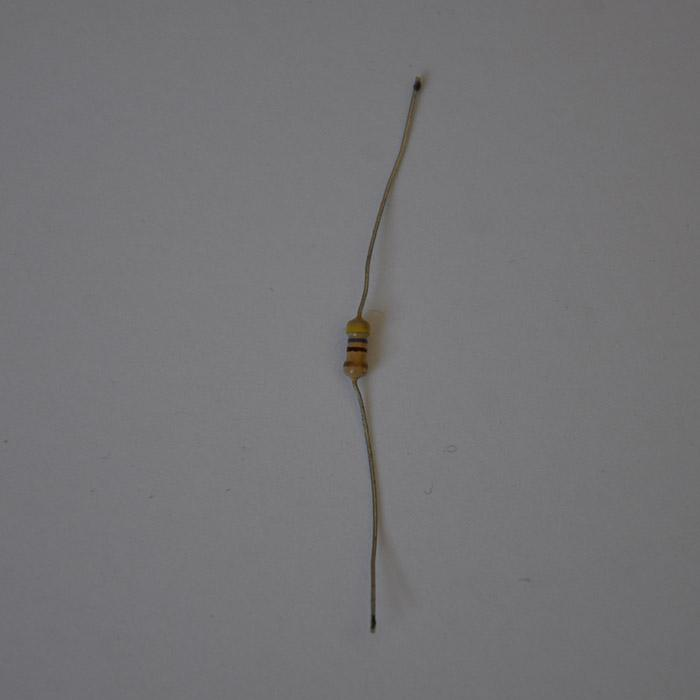resistor: (343, 314, 371, 377)
